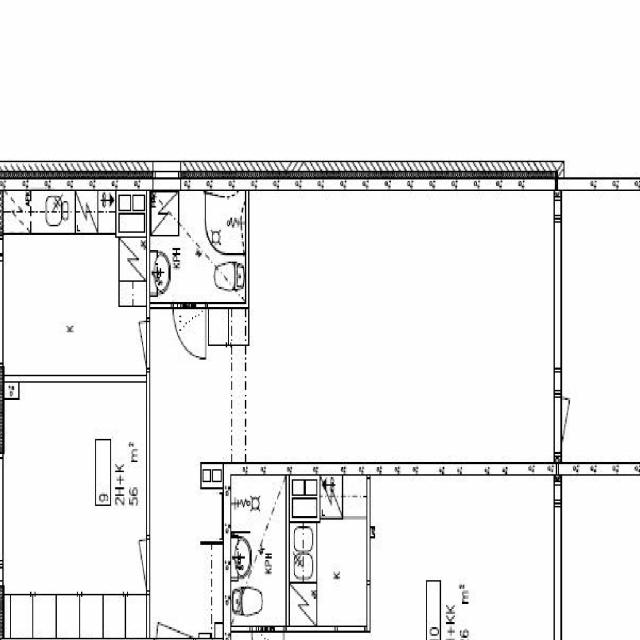door: (554, 396, 596, 452), (156, 578, 193, 640), (172, 301, 205, 359), (114, 538, 150, 589), (117, 320, 150, 367)
